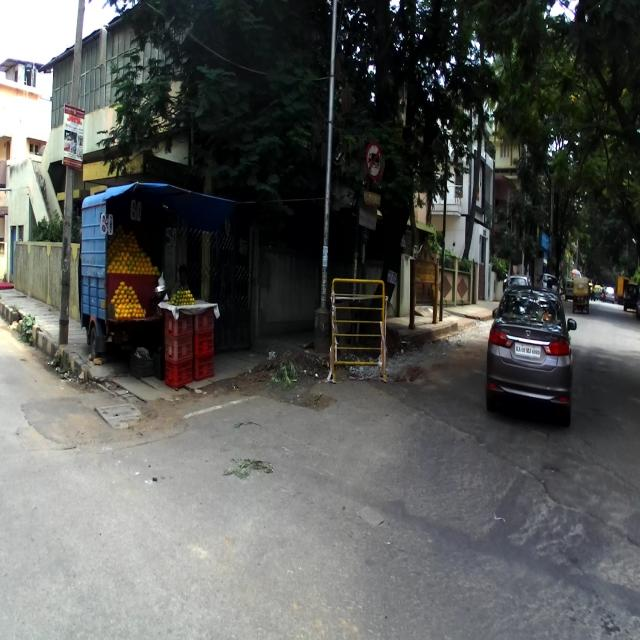Car_Honda: (485, 286, 576, 427)
